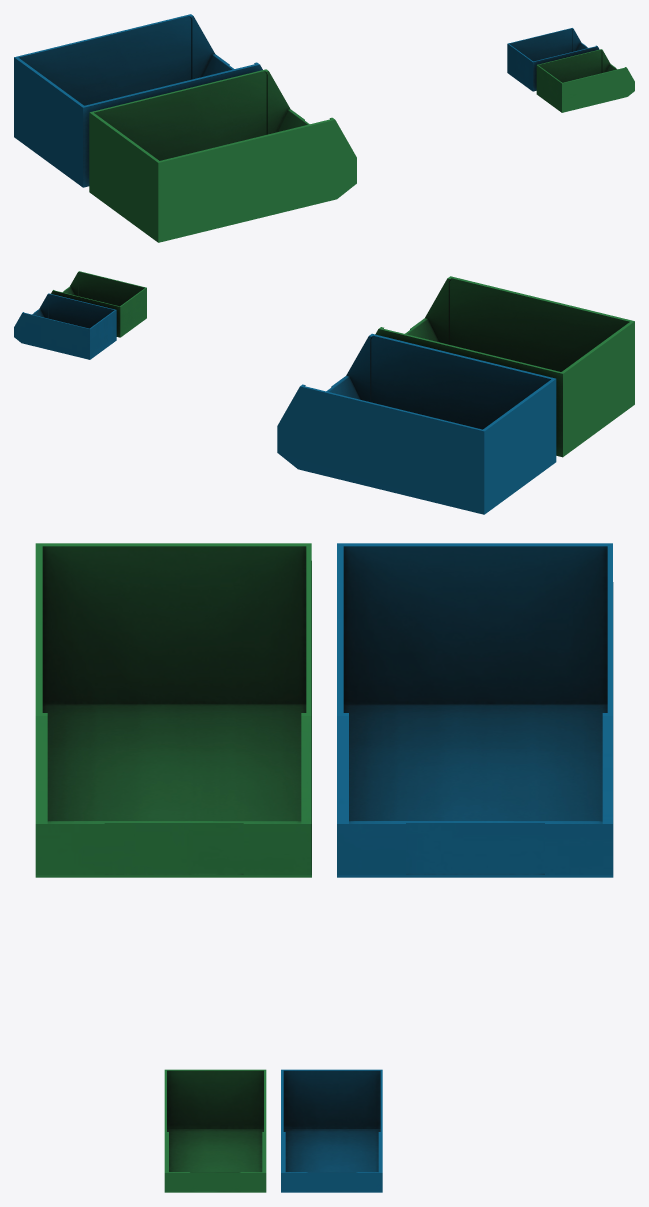
Rendered from cajas accesorios y banda.FBX.
3 renders of one model, top to bottom at view 1: azimuth 30°, elevation 25°; view 2: azimuth 150°, elevation 25°; view 3: azimuth 270°, elevation 25°, orthographic. The views are drawn at different scales.
Parts seen in each view (by area): view 1: caja_accesorios_1, caja_accesorios_2, caja_banda_1, caja_banda_2; view 2: caja_accesorios_2, caja_accesorios_1, caja_banda_2, caja_banda_1; view 3: caja_accesorios_1, caja_accesorios_2, caja_banda_1, caja_banda_2.
Part boxes in pixels (x1,y1,x2,y2): caja_accesorios_1: (89,69,356,242); caja_accesorios_2: (14,14,262,187); caja_banda_1: (536,49,634,112); caja_banda_2: (507,28,599,91); caja_accesorios_2: (277,333,556,514); caja_accesorios_1: (375,276,634,457); caja_banda_2: (14,293,116,359); caja_banda_1: (51,271,146,337); caja_accesorios_1: (35,543,311,877); caja_accesorios_2: (337,543,613,877); caja_banda_1: (164,1069,266,1192); caja_banda_2: (281,1069,382,1192).
Size of the model in its own units: 133 by 20 by 65.48.
1 material, 1 textured.
